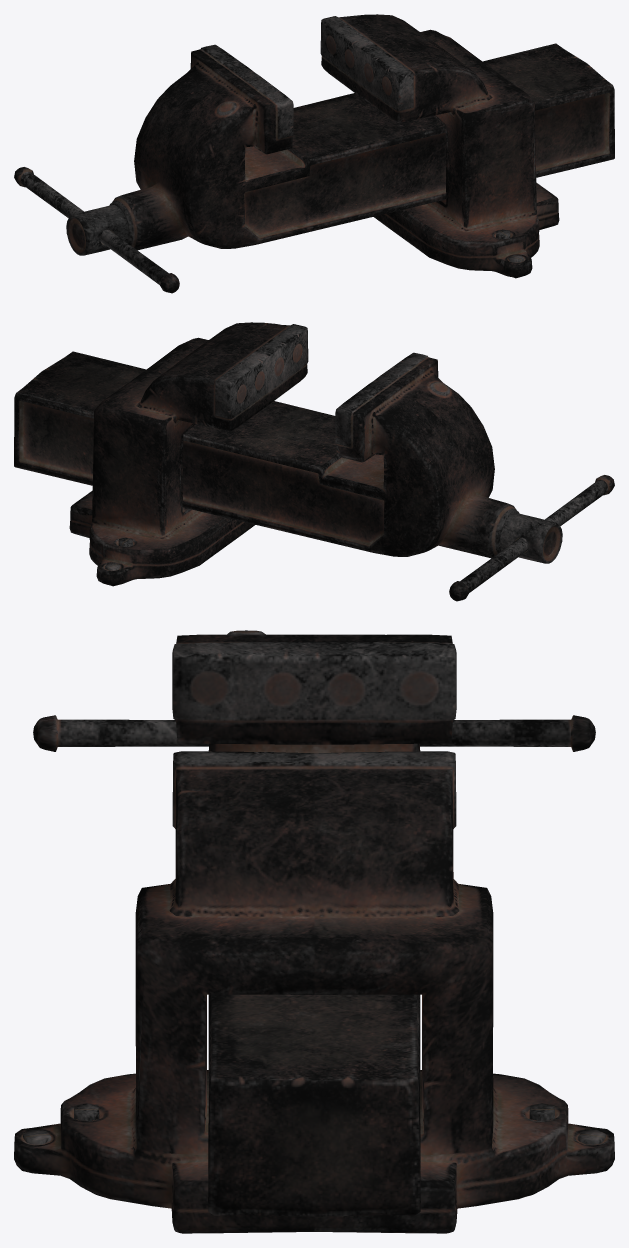
Rendered from vice.glb.
The picture shows the model from 3 angles, top to bottom: view 1: azimuth 30°, elevation 25°; view 2: azimuth 150°, elevation 25°; view 3: azimuth 270°, elevation 25°; orthographic projection. The views are drawn at different scales.
Visible parts, largest first — view 1: Object_2; view 2: Object_2; view 3: Object_2.
Boxes of the visible parts, box(x1,y1,x2,y2) form: Object_2: box(14, 14, 614, 293); Object_2: box(14, 322, 614, 601); Object_2: box(14, 630, 614, 1233).
Bounding box in the file's own units: 65.86 × 23.48 × 37.1.
Materials: 1 (1 with a texture image).
